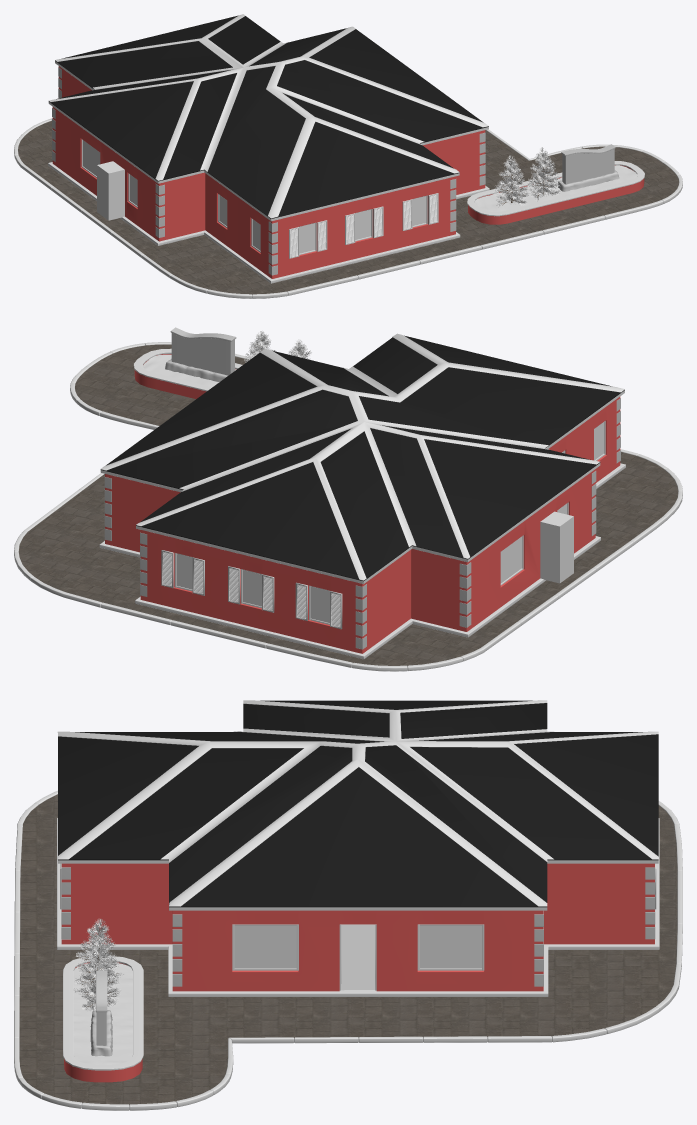
File: Building_Commercial1.fbx
3 renders of one model, top to bottom at view 1: azimuth 30°, elevation 25°; view 2: azimuth 150°, elevation 25°; view 3: azimuth 270°, elevation 25°, orthographic. The views are drawn at different scales.
Visible parts, largest first — view 1: Roof, Walls, Plot, Roof Trim, Curb, Brick Planter, Windows, Base Slab, Shudders, Column Decor, Soil, Stone Sign (+6 smaller); view 2: Roof, Walls, Plot, Roof Trim, Curb, Base Slab, Column Decor, Windows, Shudders.001, Stone Sign, Cube, Roof Overhangs (+4 smaller); view 3: Roof, Plot, Walls, Roof Trim, Curb, Base Slab, Windows, Brick Planter, Soil, Column Decor, Roof Overhangs, leaves (+4 smaller).
Boxes of the visible parts, <box> form: Roof: <box>49,15,488,218</box>; Walls: <box>52,66,485,278</box>; Plot: <box>18,120,678,294</box>; Roof Trim: <box>49,14,488,218</box>; Curb: <box>14,118,682,298</box>; Brick Planter: <box>467,161,644,224</box>; Windows: <box>83,140,426,253</box>; Base Slab: <box>48,162,489,283</box>; Shudders: <box>289,193,438,258</box>; Column Decor: <box>52,67,485,275</box>; Soil: <box>475,165,637,211</box>; Stone Sign: <box>561,144,615,184</box>; Roof: <box>100,335,624,581</box>; Walls: <box>105,396,620,653</box>; Plot: <box>18,344,678,665</box>; Roof Trim: <box>101,333,624,580</box>; Curb: <box>14,342,682,671</box>; Base Slab: <box>99,463,625,659</box>; Column Decor: <box>104,398,620,649</box>; Windows: <box>176,422,603,622</box>; Shudders.001: <box>161,550,342,629</box>; Stone Sign: <box>170,327,236,375</box>; Cube: <box>540,511,573,583</box>; Roof Overhangs: <box>100,390,624,583</box>; Roof: <box>58,700,658,907</box>; Plot: <box>19,794,677,1104</box>; Walls: <box>61,863,654,991</box>; Roof Trim: <box>57,700,658,906</box>; Curb: <box>14,790,682,1110</box>; Base Slab: <box>57,818,659,996</box>; Windows: <box>234,925,481,968</box>; Brick Planter: <box>63,956,143,1082</box>; Soil: <box>73,962,132,1064</box>; Column Decor: <box>61,864,655,986</box>; Roof Overhangs: <box>58,860,658,910</box>; leaves: <box>73,939,120,1010</box>.
Bounding box in the file's own units: 2117 × 481 × 1804.
